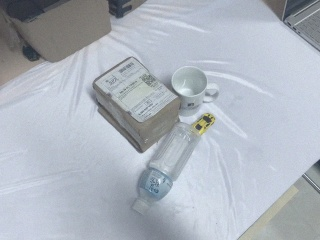bottle: (131, 97, 207, 217)
box: (92, 55, 181, 154), (2, 1, 111, 63)
cup: (170, 65, 222, 125), (171, 66, 207, 97)
toy_car: (191, 113, 216, 136)
